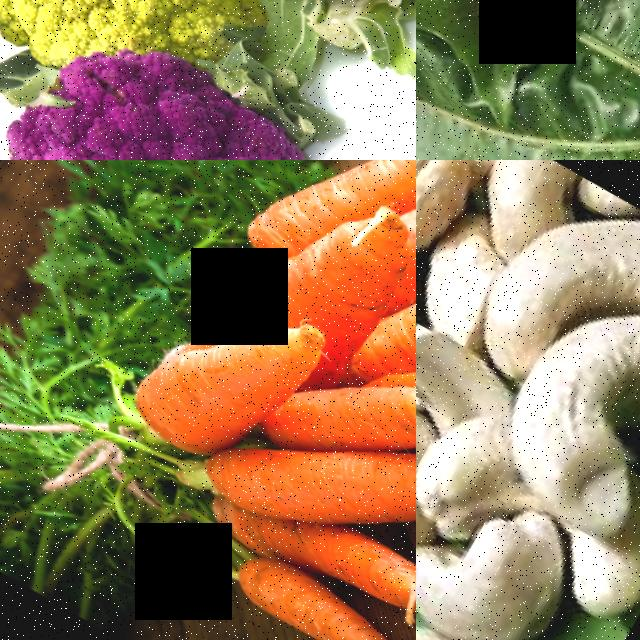carrot: (175, 523, 416, 640), (250, 188, 416, 353), (286, 423, 416, 597), (124, 313, 271, 460), (268, 506, 416, 640), (297, 331, 416, 472)
cashew: (497, 160, 640, 383), (499, 273, 640, 493), (416, 489, 579, 640)
cauliflower: (0, 5, 356, 160), (0, 0, 294, 116)
